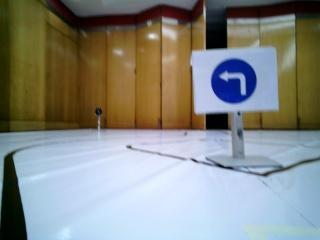left: (193, 54, 278, 109)
